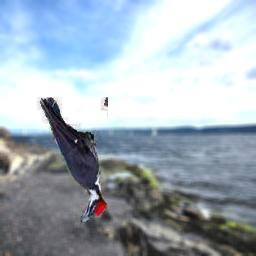Woodpecker: (37, 95, 108, 225)
